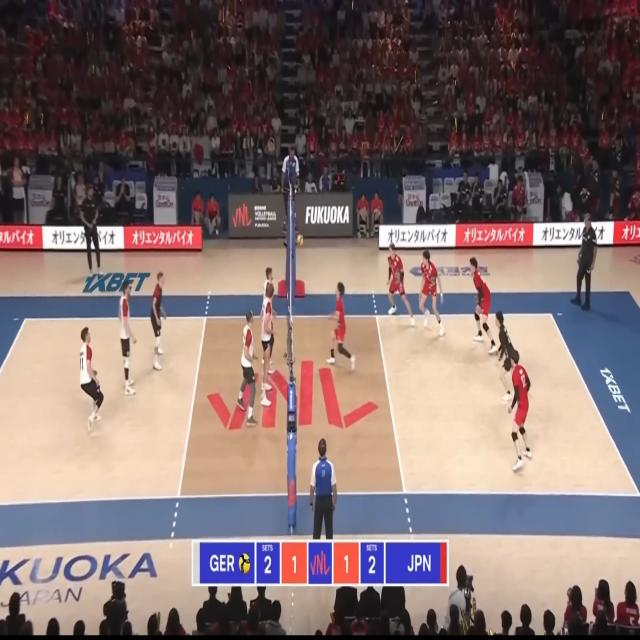ball: (296, 232, 304, 246)
